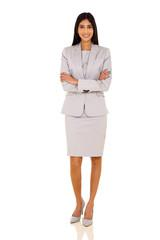Human: (59, 5, 113, 228)
